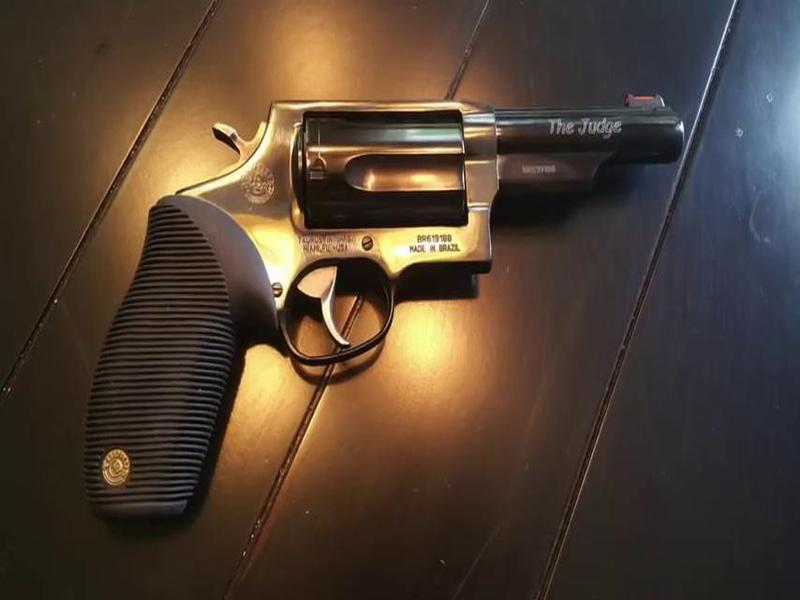Revolver: (114, 66, 707, 512)
